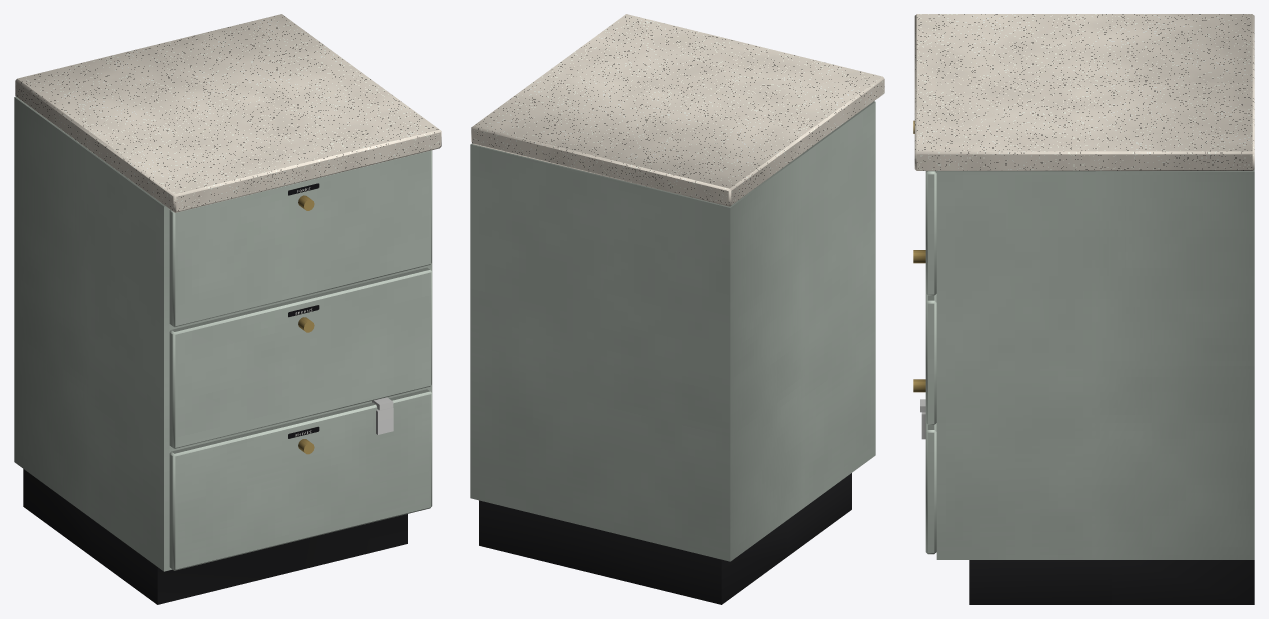
Rendered from counter_drawers.glb.
3 renders of one model, left to right at view 1: azimuth 30°, elevation 25°; view 2: azimuth 150°, elevation 25°; view 3: azimuth 270°, elevation 25°, orthographic. The views are drawn at different scales.
Visible parts, largest first — view 1: body; view 2: body; view 3: body.
Boxes of the visible parts, bbox=[...] form: body: bbox=[14, 14, 441, 604]; body: bbox=[470, 14, 884, 604]; body: bbox=[913, 14, 1254, 604].
Size of what is drawn, in the model's own units: 0.6 by 0.92 by 0.6225.
6 materials, 3 textured.
